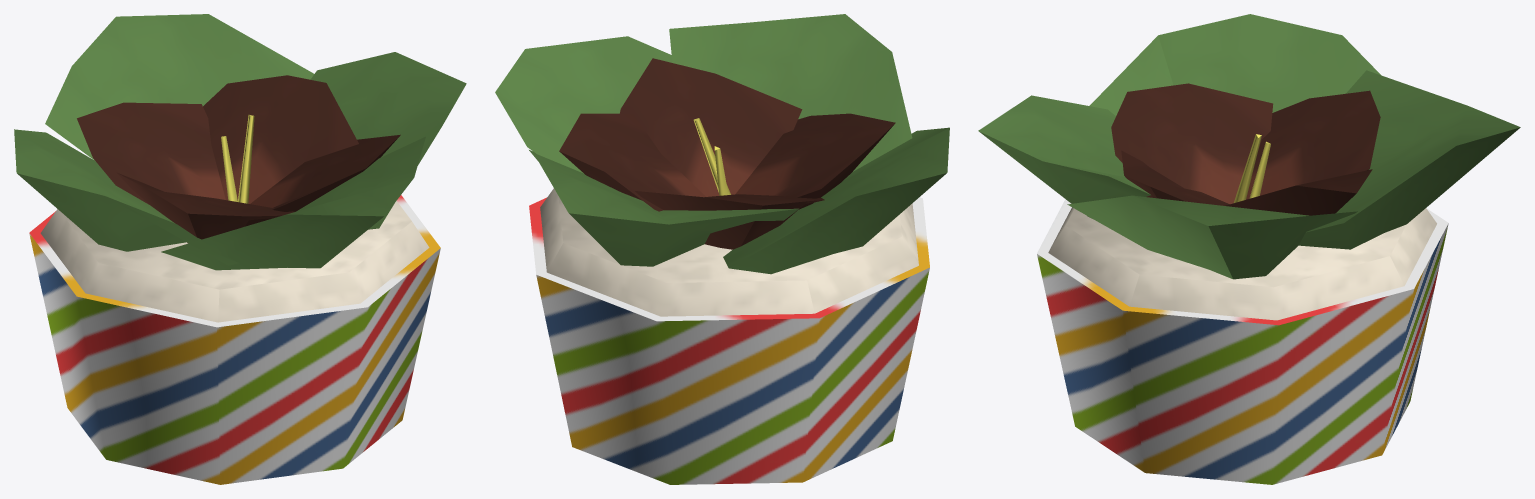
The model's file is Cupcake_B_14.FBX.
The picture shows the model from 3 angles, left to right: view 1: azimuth 30°, elevation 25°; view 2: azimuth 150°, elevation 25°; view 3: azimuth 270°, elevation 25°; orthographic projection. The views are drawn at different scales.
Parts seen in each view (by area): view 1: Cupcake_B; view 2: Cupcake_B; view 3: Cupcake_B.
Part boxes in pixels (<box>): Cupcake_B: <box>14,14,466,484</box>; Cupcake_B: <box>495,14,949,484</box>; Cupcake_B: <box>978,14,1520,484</box>.
Bounding box in the file's own units: 38.73 × 26.15 × 41.87.
